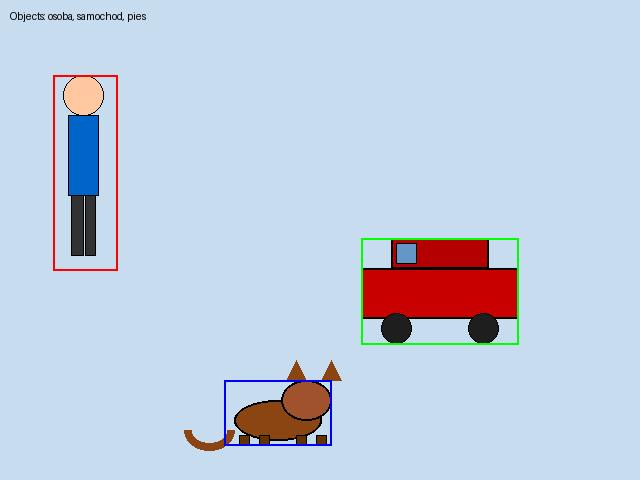osoba: (53, 75, 117, 270)
pies: (224, 380, 331, 445)
samochod: (361, 238, 518, 344)
